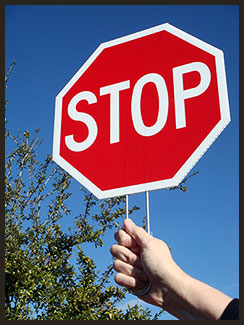stop: (52, 23, 231, 198), (52, 21, 230, 163), (70, 23, 233, 176), (52, 22, 232, 135), (50, 79, 225, 186), (54, 23, 159, 194)
